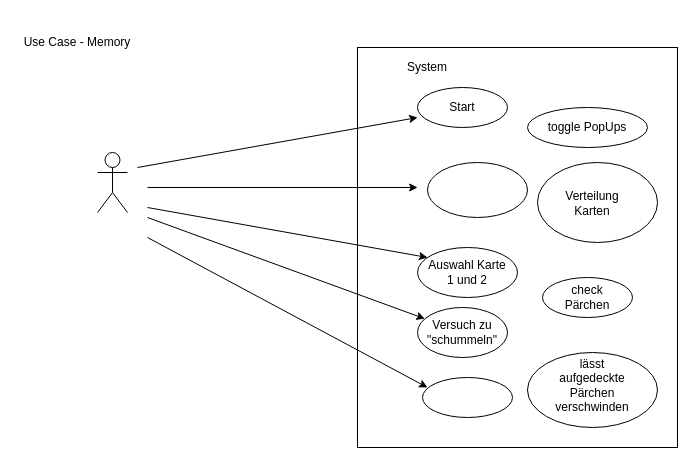
Image size: 695x465. Some labels were removed from this diagram. The shapes that lost their labels are listed below. From the top down, each one's box as (x1, y1, x2, y2) in pixels, then its label:
(96, 152, 128, 212): Actor
(426, 162, 528, 218): Auswahl Anzahl Paare
(422, 376, 512, 418): Auswahl neu spielen
